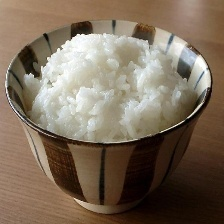rice: (23, 34, 199, 145)
